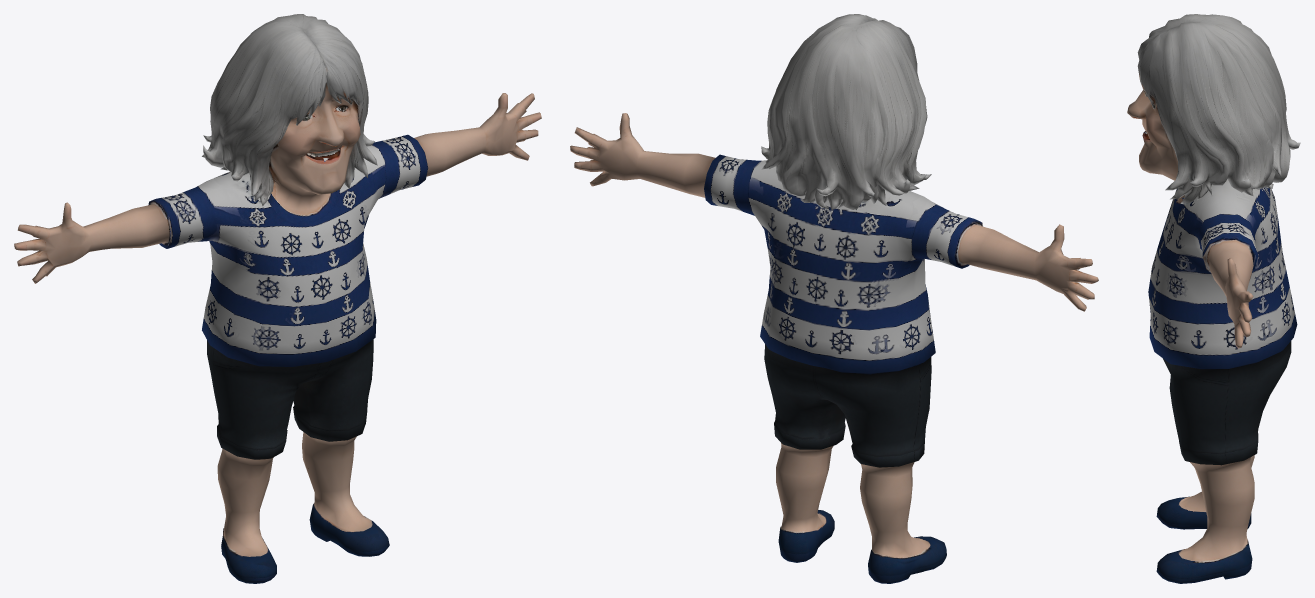
Rendered from player_vickie.glb.
3 renders of one model, left to right at view 1: azimuth 30°, elevation 25°; view 2: azimuth 150°, elevation 25°; view 3: azimuth 270°, elevation 25°, orthographic.
Parts seen in each view (by area): view 1: tripo_node_f999244c-8f35-4f3d-95d3-489c48c5d7bc; view 2: tripo_node_f999244c-8f35-4f3d-95d3-489c48c5d7bc; view 3: tripo_node_f999244c-8f35-4f3d-95d3-489c48c5d7bc.
Boxes of the visible parts, x1,y1,x2,y2 form: tripo_node_f999244c-8f35-4f3d-95d3-489c48c5d7bc: (14, 14, 541, 583); tripo_node_f999244c-8f35-4f3d-95d3-489c48c5d7bc: (570, 14, 1098, 583); tripo_node_f999244c-8f35-4f3d-95d3-489c48c5d7bc: (1127, 14, 1300, 583).
Size of the model in its own units: 0.998 by 0.9668 by 0.2871.
1 material, 1 textured.
